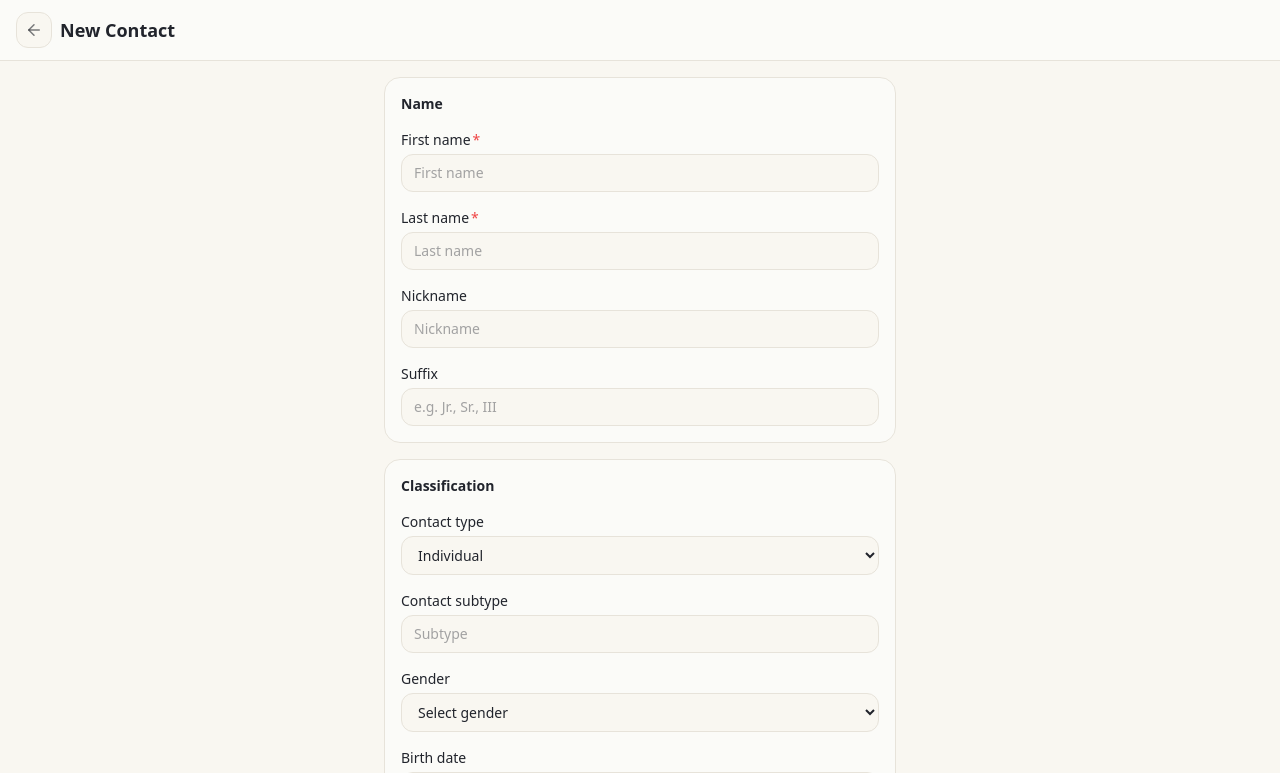
Test case: ContactFormPage — create mode › maps 422 errors inline onto form fields
Check: the heading "New Contact" is shown, box [60,16,175,44]
# Fill minimum required fields and submit
Type "Test" into the field labelled "First name*". click: {"x": 640, "y": 173}
box: [401,154,879,192]
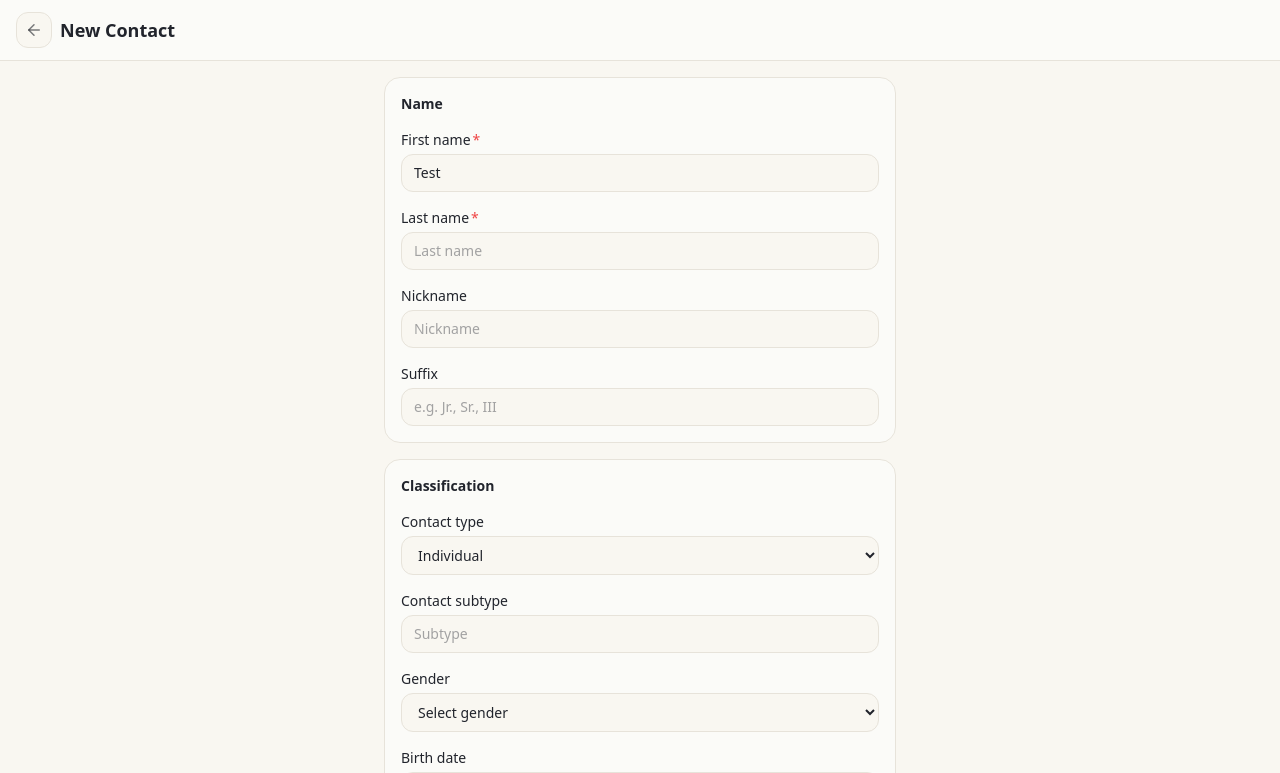
Type "User" into the field labelled "Last name*". click: {"x": 640, "y": 251}
box: [401,232,879,270]
(page scrolled)
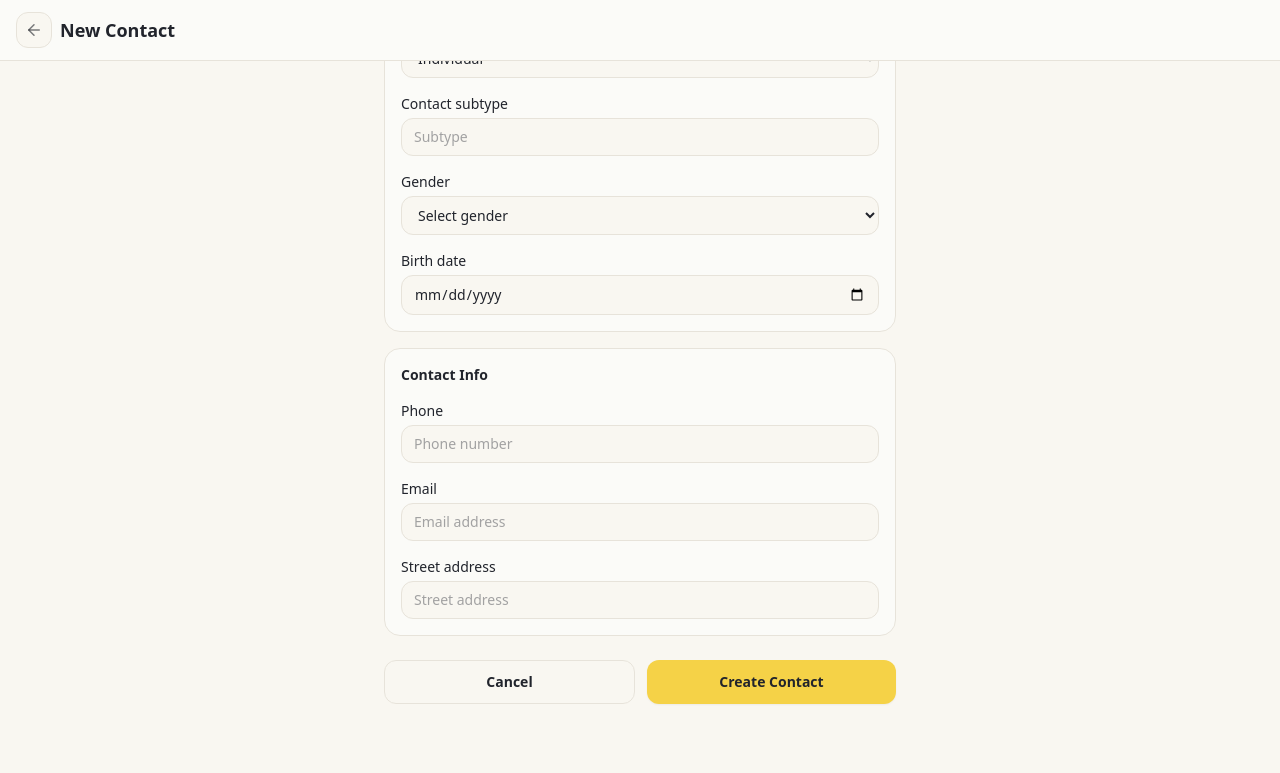
Type "bad-email" into the field labelled "Email". click: {"x": 640, "y": 522}
box: [401,503,879,541]
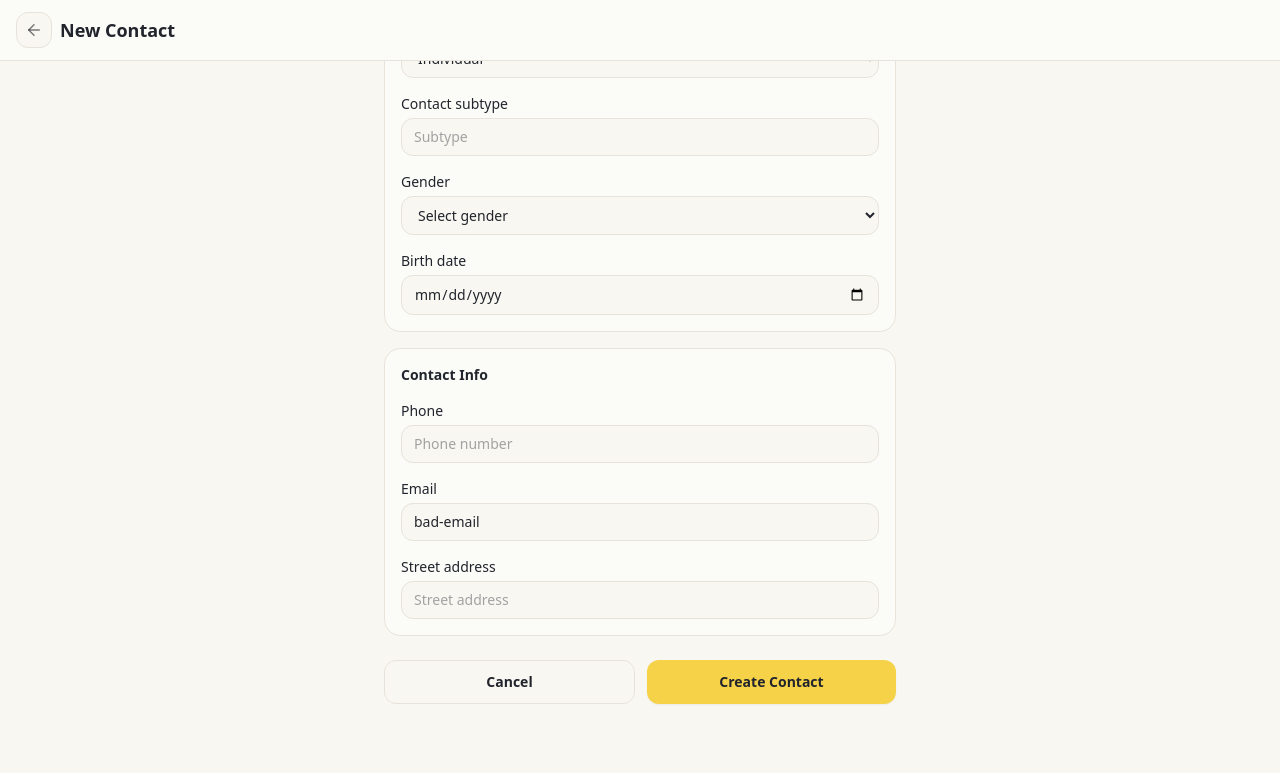
Click the button "Create Contact". click: {"x": 772, "y": 682}
box: [647,660,896,704]
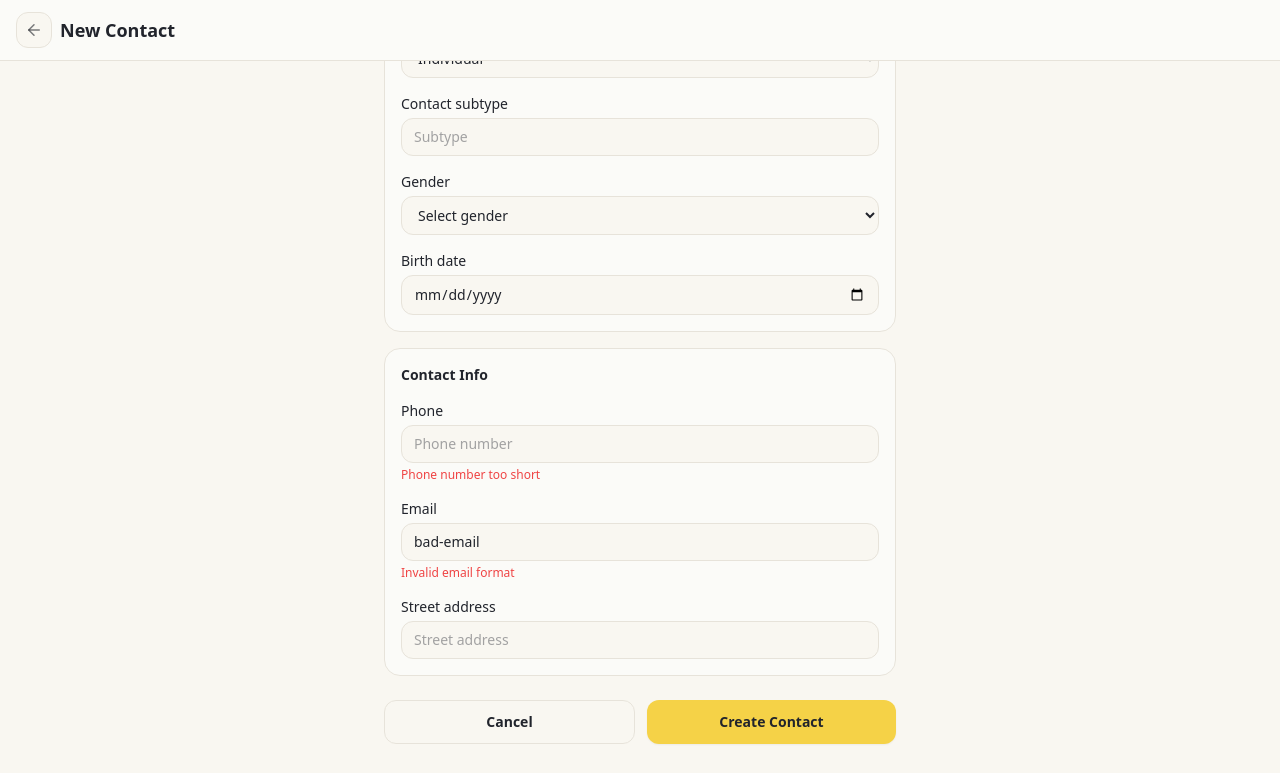
Check: the text "Invalid email format" is shown, box [401,564,515,581]
Check: the text "Phone number too short" is shown, box [401,466,540,483]
